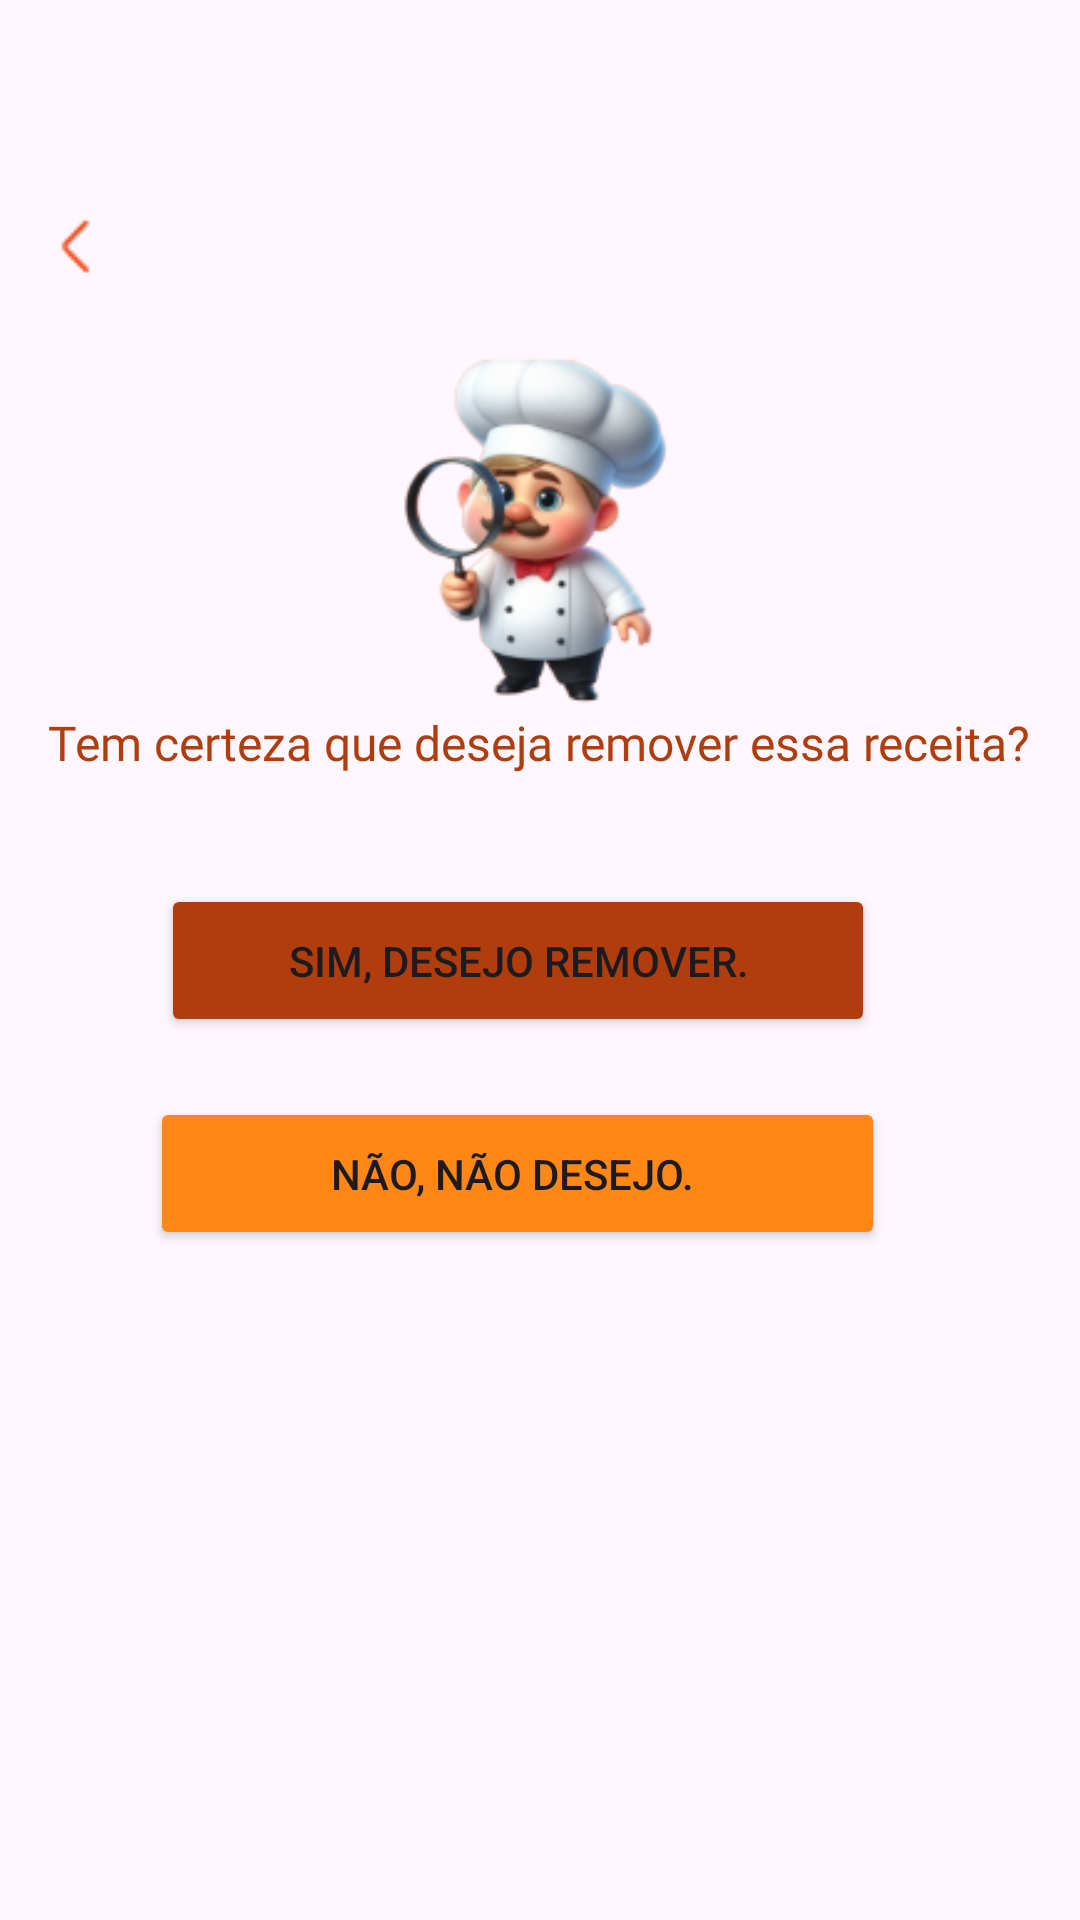

Where to tap for icons on this 1080 × 1920 app screen, as (x,y):
setadesaida: (75,246)
